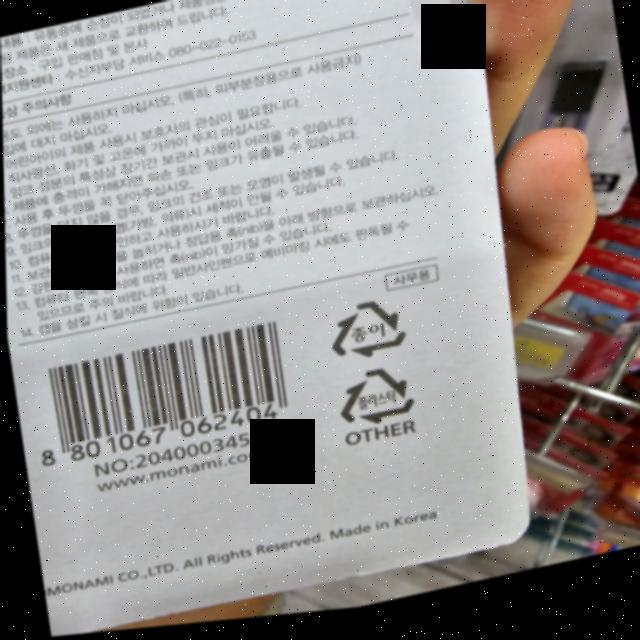Paper: (322, 299, 408, 374)
Plastic: (330, 369, 415, 439)
